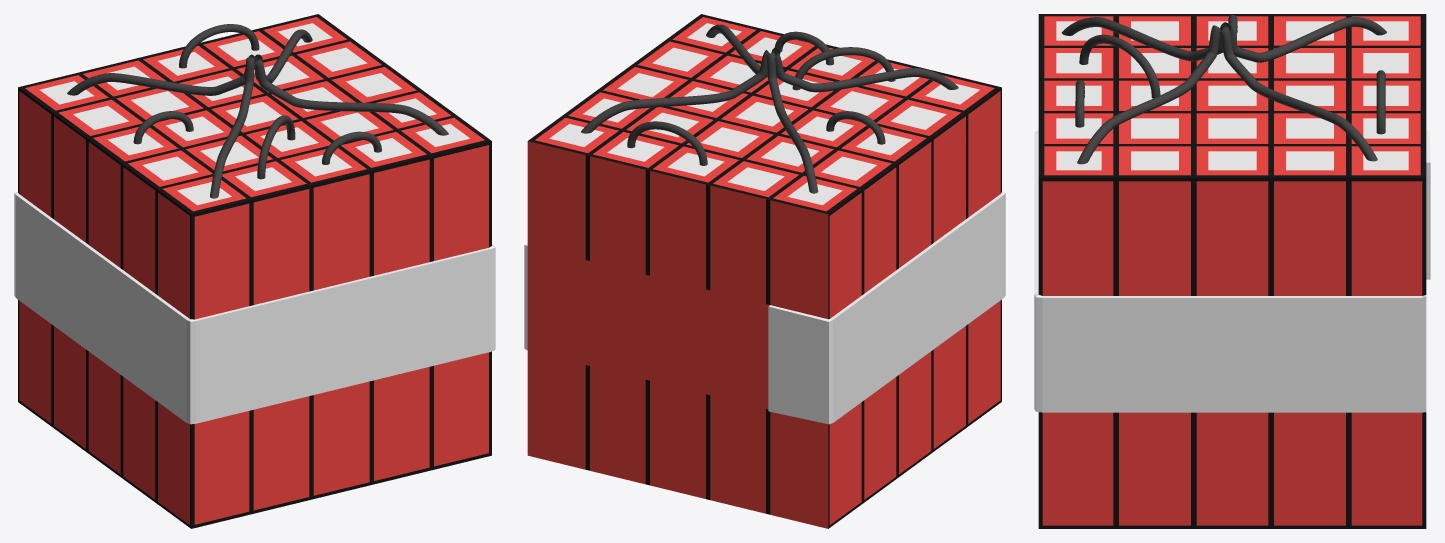
The model's file is Bomb.fbx.
3 renders of one model, left to right at view 1: azimuth 30°, elevation 25°; view 2: azimuth 150°, elevation 25°; view 3: azimuth 270°, elevation 25°, orthographic. The views are drawn at different scales.
Visible parts, largest first — view 1: Bomb, Cable1, Cable, Cable5, Cable7, cable2, Cable3, cable6, cable4; view 2: Bomb, Cable3, Cable5, Cable, cable2, Cable7, Cable1, cable6, cable4; view 3: Bomb, Cable3, Cable1, Cable, Cable5, cable2, Cable7, cable4.
Boxes of the visible parts, x1,y1,x2,y2 form: Bomb: (14,14,495,528); Cable1: (254,58,448,135); Cable: (67,54,256,95); Cable5: (210,57,254,198); Cable7: (179,24,259,68); cable2: (257,115,295,179); Cable3: (254,29,312,83); cable6: (133,111,193,144); cable4: (322,131,381,164); Bomb: (524,14,1005,528); Cable3: (581,50,769,133); Cable5: (774,51,958,92); Cable: (766,53,818,193); cable2: (792,47,895,90); Cable7: (627,121,707,165); Cable1: (706,24,780,77); cable6: (826,111,885,144); cable4: (774,31,833,65); Bomb: (1034,14,1430,528); Cable3: (1220,27,1377,161); Cable1: (1077,25,1221,164); Cable: (1223,17,1386,62); Cable5: (1061,17,1230,61); cable2: (1079,34,1160,98); Cable7: (1376,70,1385,134); cable4: (1075,80,1084,127).
Bounding box in the file's own units: 132 × 154 × 132.
